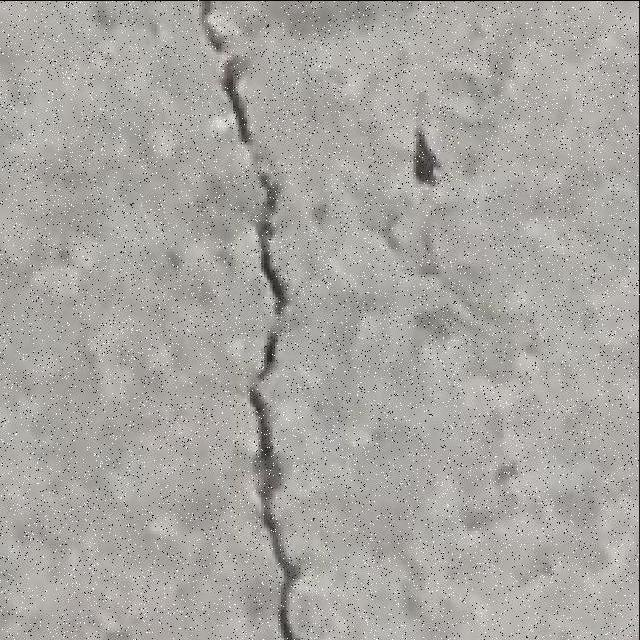crack: (197, 2, 303, 637)
